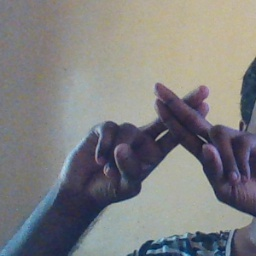F: (113, 69, 248, 182)
